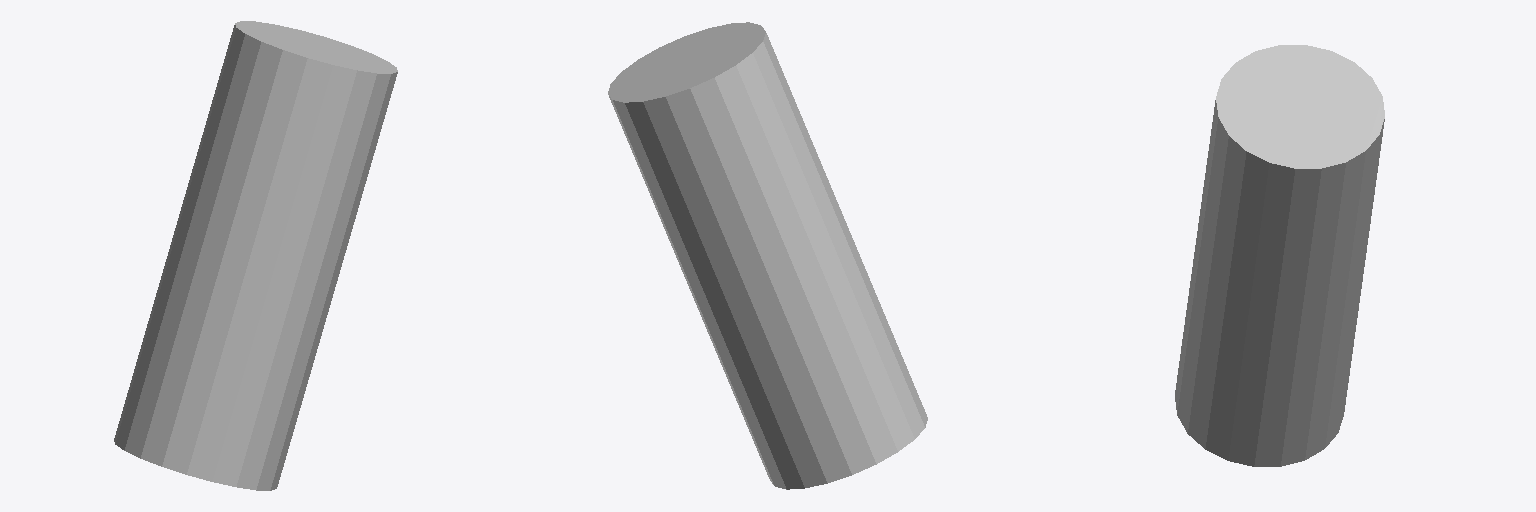
The model's file is 5proxph_skin.obj.
3 renders of one model, left to right at view 1: azimuth 30°, elevation 25°; view 2: azimuth 150°, elevation 25°; view 3: azimuth 270°, elevation 25°, orthographic.
Bounding box in the file's own units: 0.023 × 0.0337 × 0.0151.